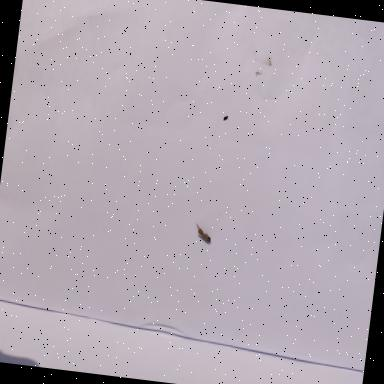pbw: (194, 222, 213, 244)
